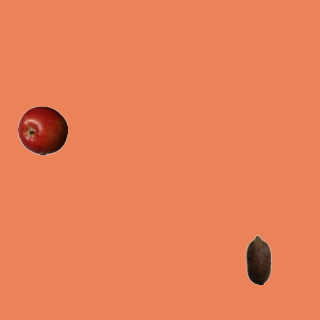Apple Braeburn: (17, 105, 67, 155)
Nut Pecan: (233, 234, 283, 284)
